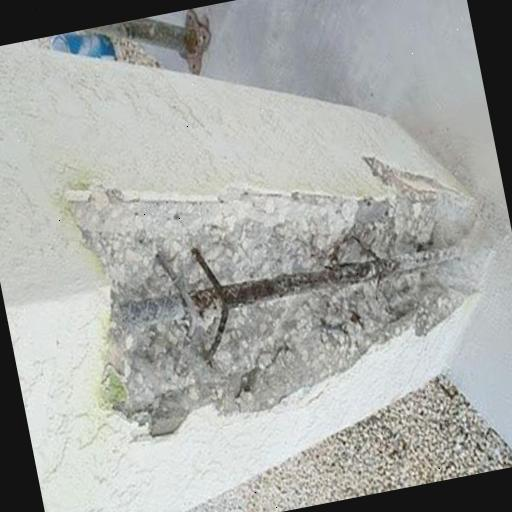spalling: (76, 158, 493, 438)
